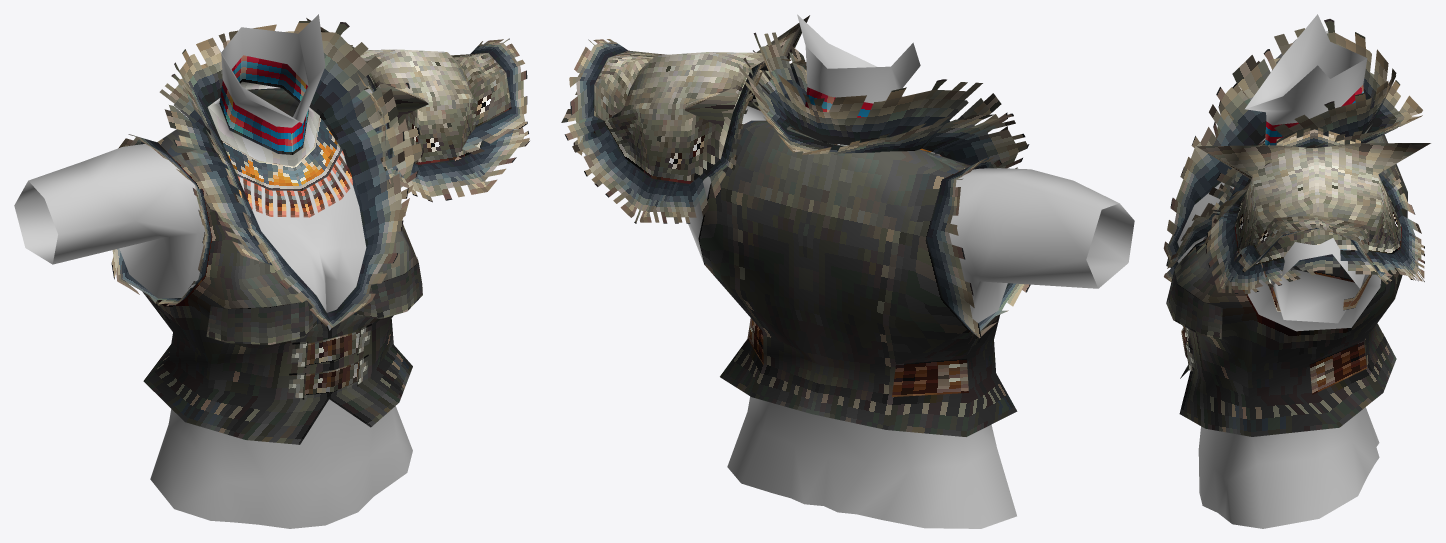
File: f_plate213.obj
The picture shows the model from 3 angles, left to right: view 1: azimuth 30°, elevation 25°; view 2: azimuth 150°, elevation 25°; view 3: azimuth 270°, elevation 25°; orthographic projection. The views are drawn at different scales.
Visible parts, largest first — view 1: mesh00, mesh01; view 2: mesh00, mesh01; view 3: mesh00, mesh01.
Boxes of the visible parts, left/top/right/bottom form: mesh00: left=111, top=18, right=529, bottom=444; mesh01: left=14, top=14, right=517, bottom=528; mesh00: left=561, top=15, right=1030, bottom=436; mesh01: left=585, top=14, right=1134, bottom=528; mesh00: left=1163, top=19, right=1430, bottom=436; mesh01: left=1177, top=14, right=1380, bottom=528.
Size of the model in its own units: 65.35 by 59.08 by 31.71.
